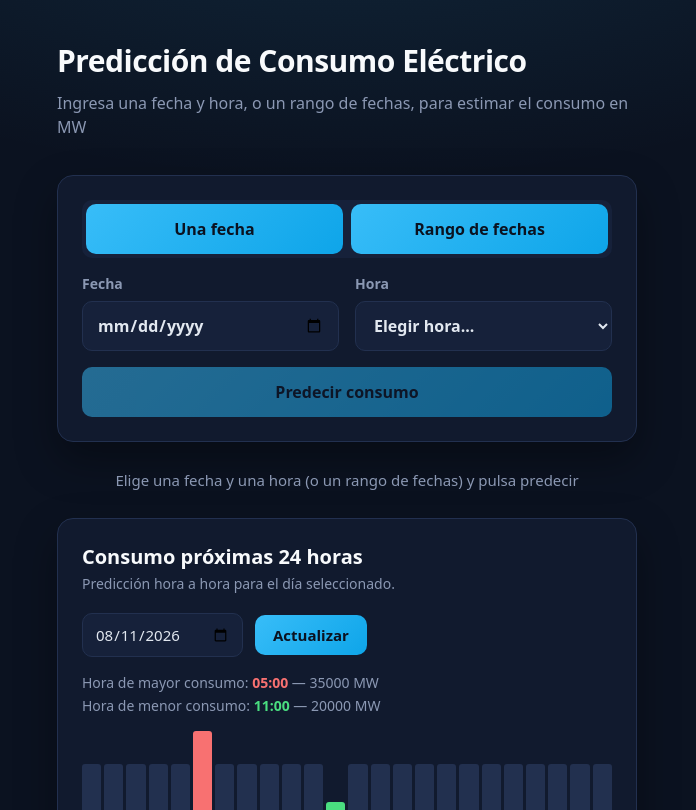
Scenario: App (simulación de UI) › muestra el error del contrato cuando el envío falla
The image size is (696, 810).
Type "2026-08-11" into the date field labelled "Fecha".
click(210, 326); type("2026-08-11")  # box top-left (82, 301), bottom-right (339, 351)
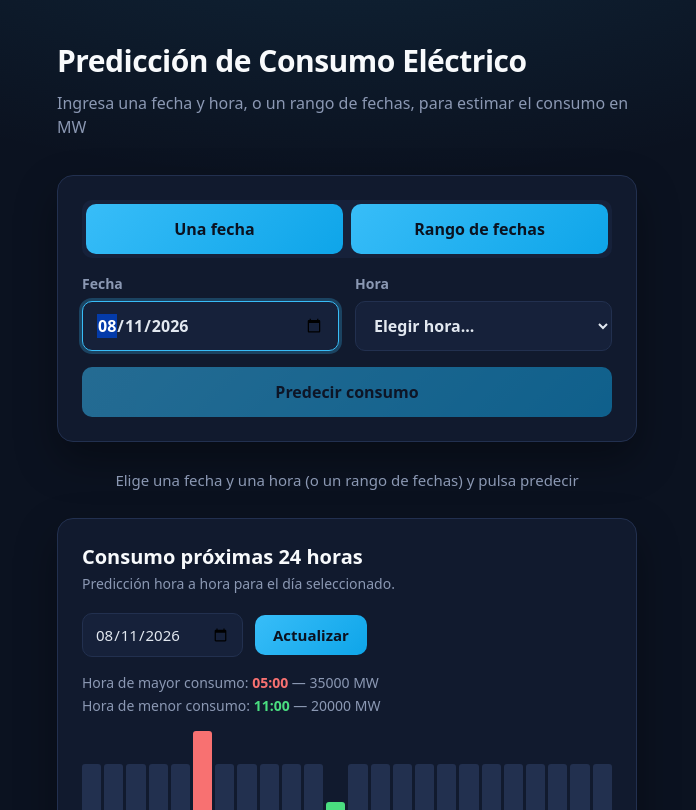
Select "14:00" in the dropdown labelled "Hora" at (484, 326), box top-left (355, 301), bottom-right (612, 351)
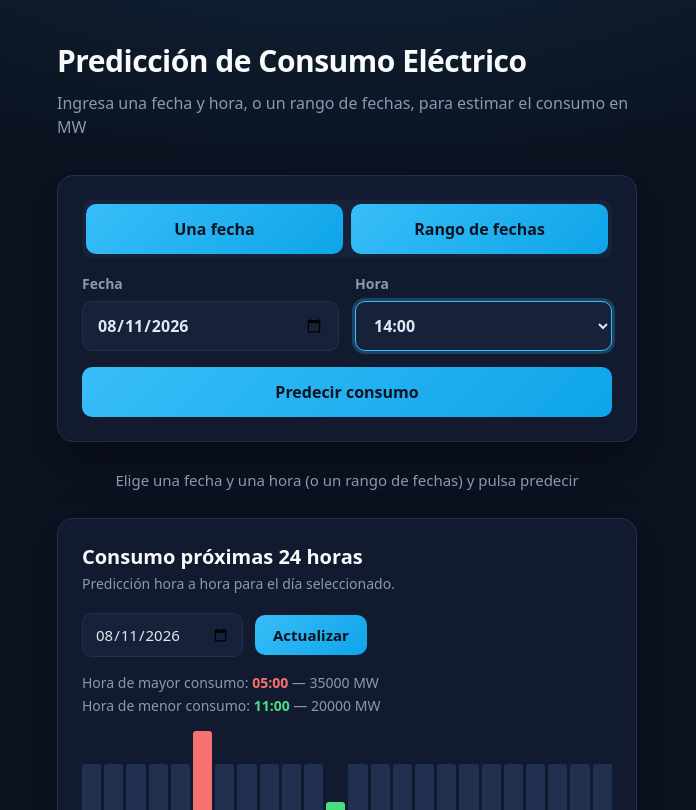
Click the button "Predecir consumo".
click(347, 392)  # box top-left (82, 367), bottom-right (612, 417)
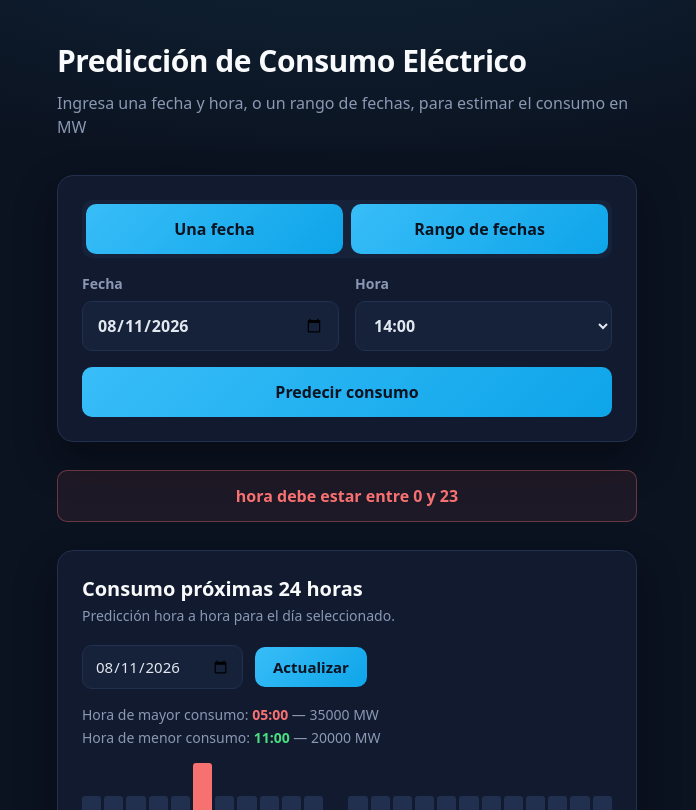
Expected: the text "hora debe estar entre 0 y 23" is shown, top-left (57, 470), bottom-right (637, 522)
